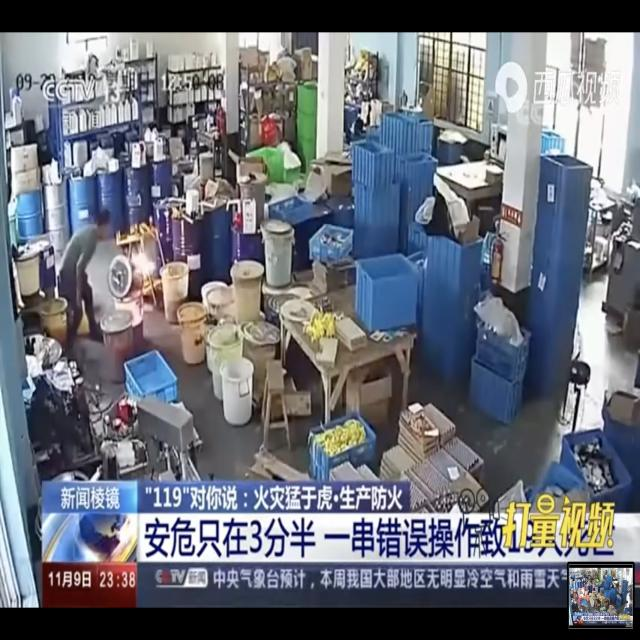Fogo: (115, 236, 167, 299)
